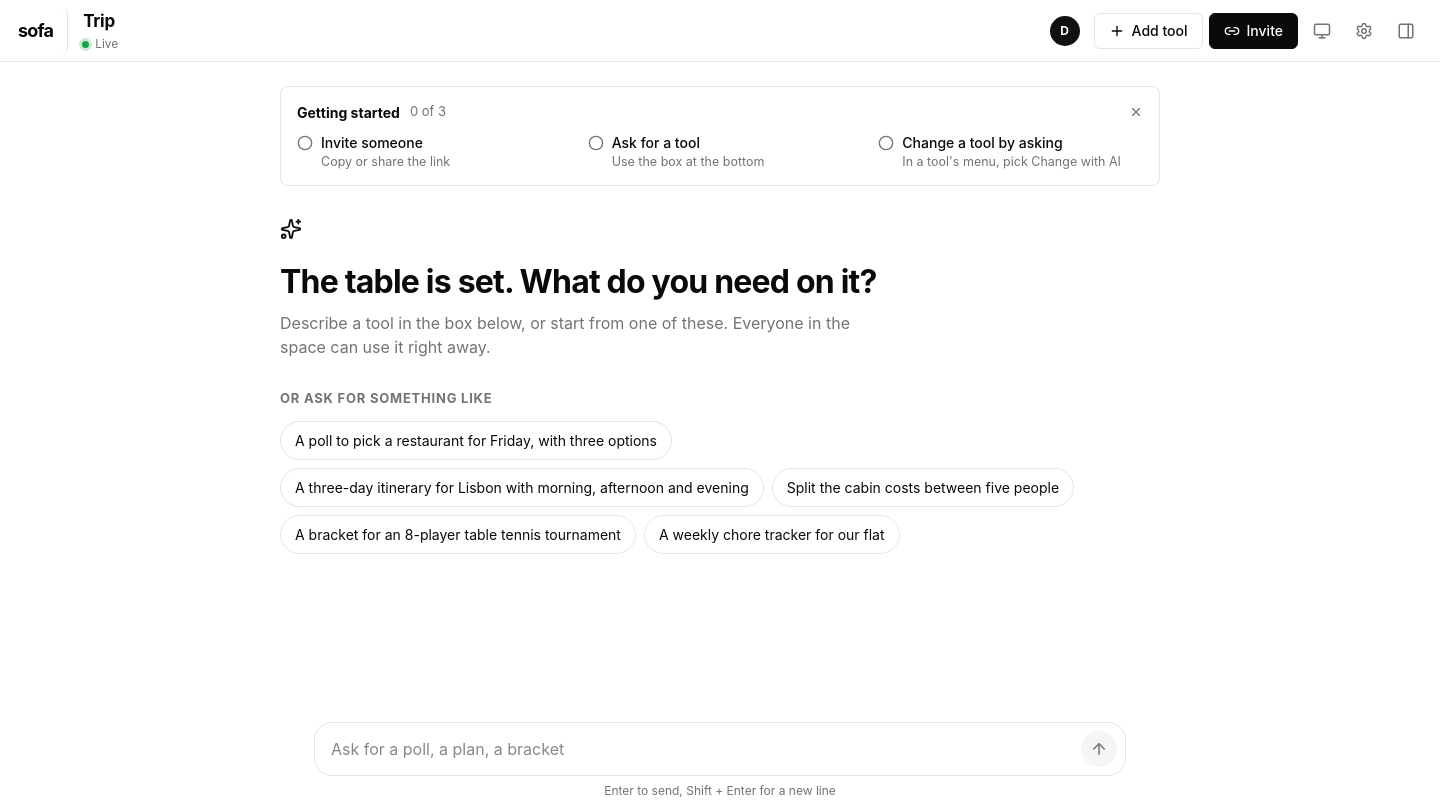
Getting started checklist › can be dismissed and goes away by itself once everything is done
Later steps or results of the test are not shown.
Click the button named "Dismiss getting started".
click(1136, 112)  # box [1123,99,1149,125]
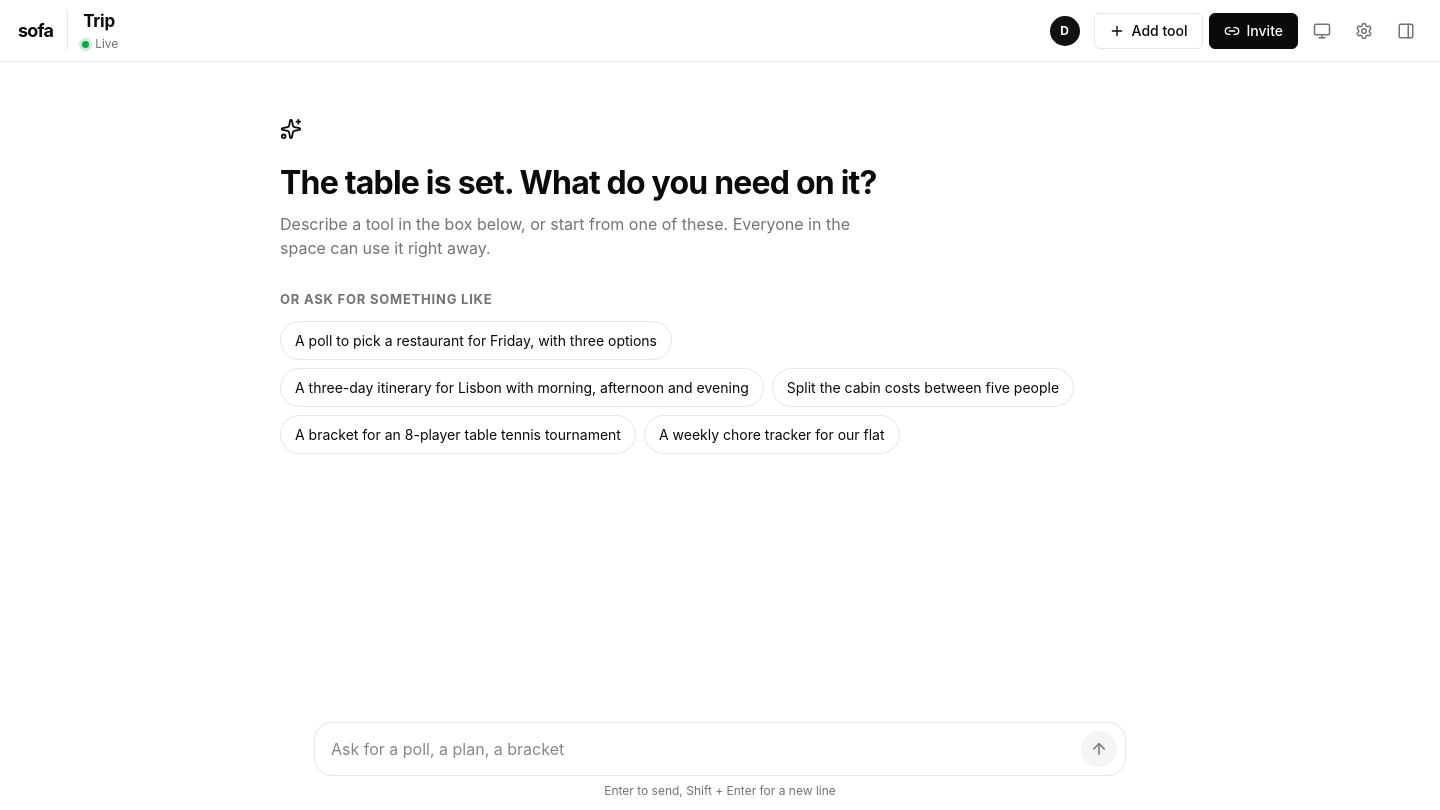
Expected: the heading "The table is set. What do you need on it?" is shown, [280,163,877,202]
Expected: the heading "Getting started" is gone
